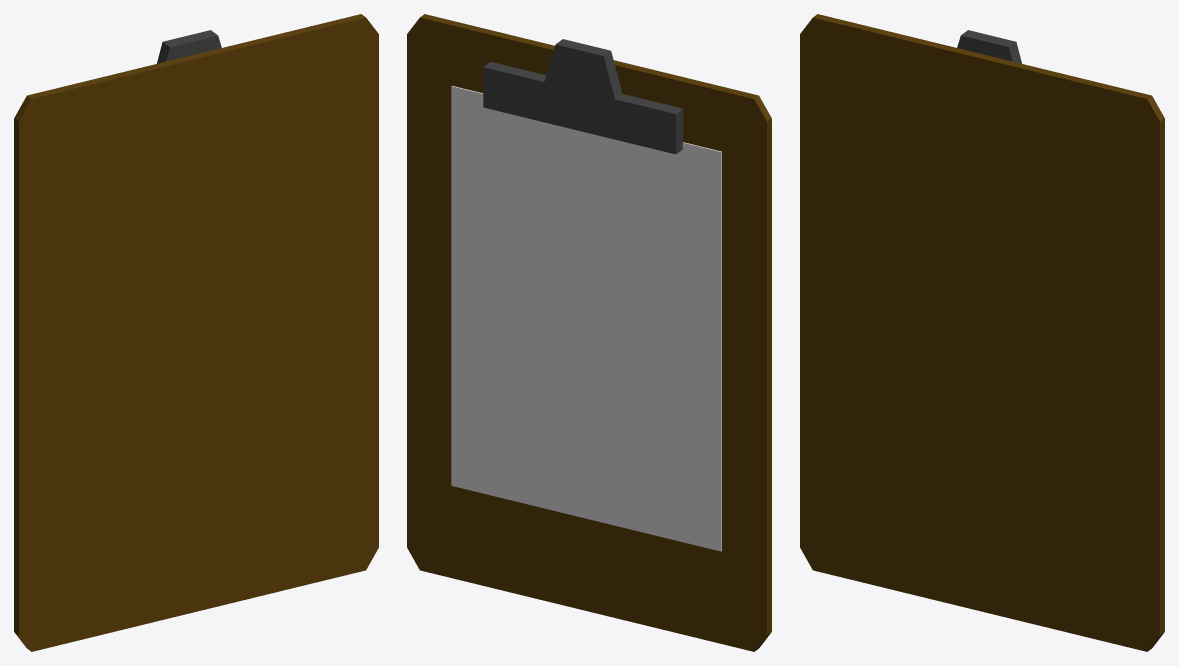
Rendered from clipboard.fbx.
The picture shows the model from 3 angles, left to right: view 1: azimuth 30°, elevation 25°; view 2: azimuth 150°, elevation 25°; view 3: azimuth 330°, elevation 25°; orthographic projection.
Visible parts, largest first — view 1: Clipboard, Clip; view 2: Paper, Clipboard, Clip; view 3: Clipboard, Clip.
Part boxes in pixels (bbox=[...]): Clipboard: bbox=[14, 14, 378, 651]; Clip: bbox=[157, 30, 221, 63]; Paper: bbox=[451, 86, 721, 551]; Clipboard: bbox=[407, 14, 771, 651]; Clip: bbox=[483, 39, 683, 154]; Clipboard: bbox=[800, 14, 1164, 651]; Clip: bbox=[957, 30, 1021, 63].
Size of the model in its own units: 28 by 42.1 by 1.65.
